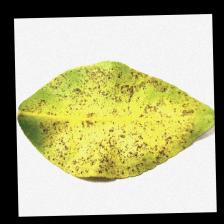canker: (59, 84, 151, 158)
